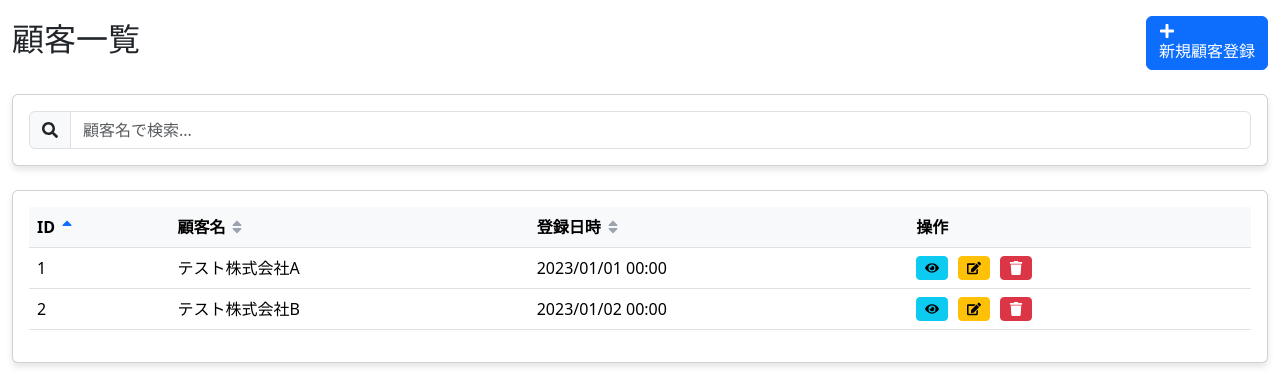
Scenario: CustomerList Component › filters customers by search term
The image size is (1280, 385).
Check: the heading "顧客一覧" is shown, box [12,20,140,58]
Note: 検索ボックスに入力
In the field with placeholder "顧客名で検索...": (660, 130) [70,111,1251,149], type "A"
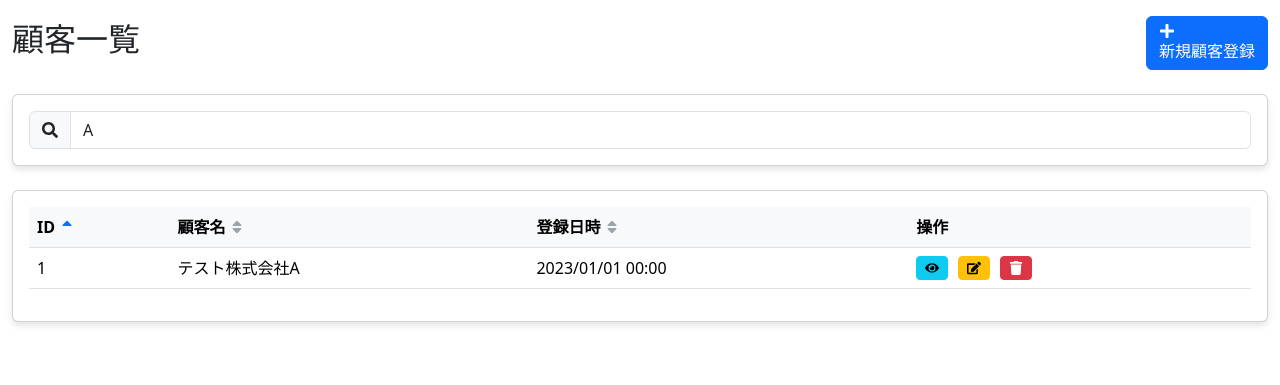
Check: the text "テスト株式会社A" is shown, box [170,248,528,288]
Check: the text "テスト株式会社B" is gone
